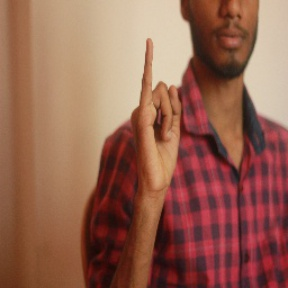I: (131, 34, 191, 186)
